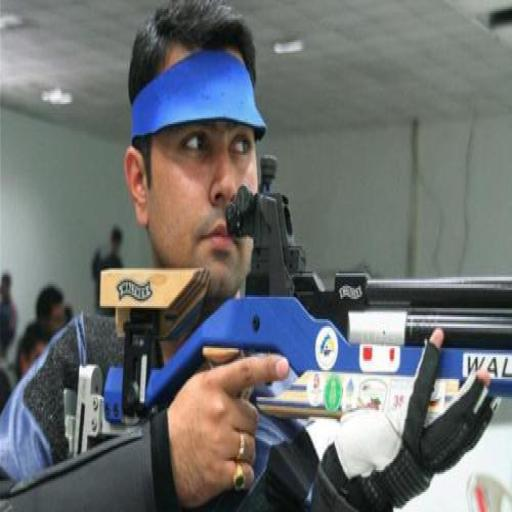shooting: (1, 2, 500, 510)
